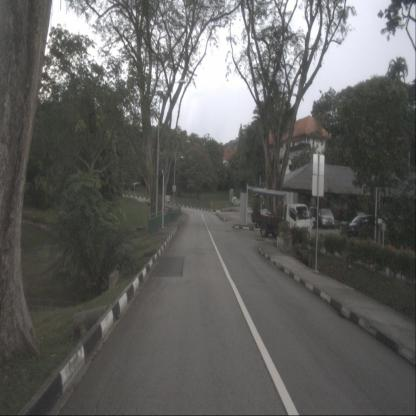vehicle-car: (345, 215, 378, 239), (317, 209, 334, 229)
vehicle-truck: (251, 188, 314, 243)
